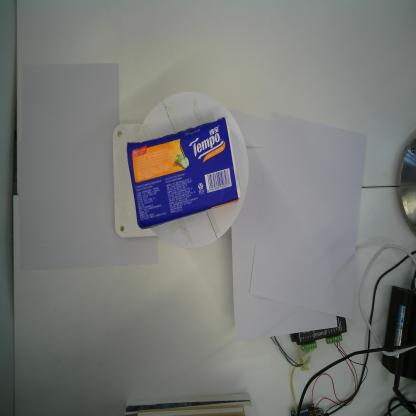Tissue: (126, 115, 241, 229)
